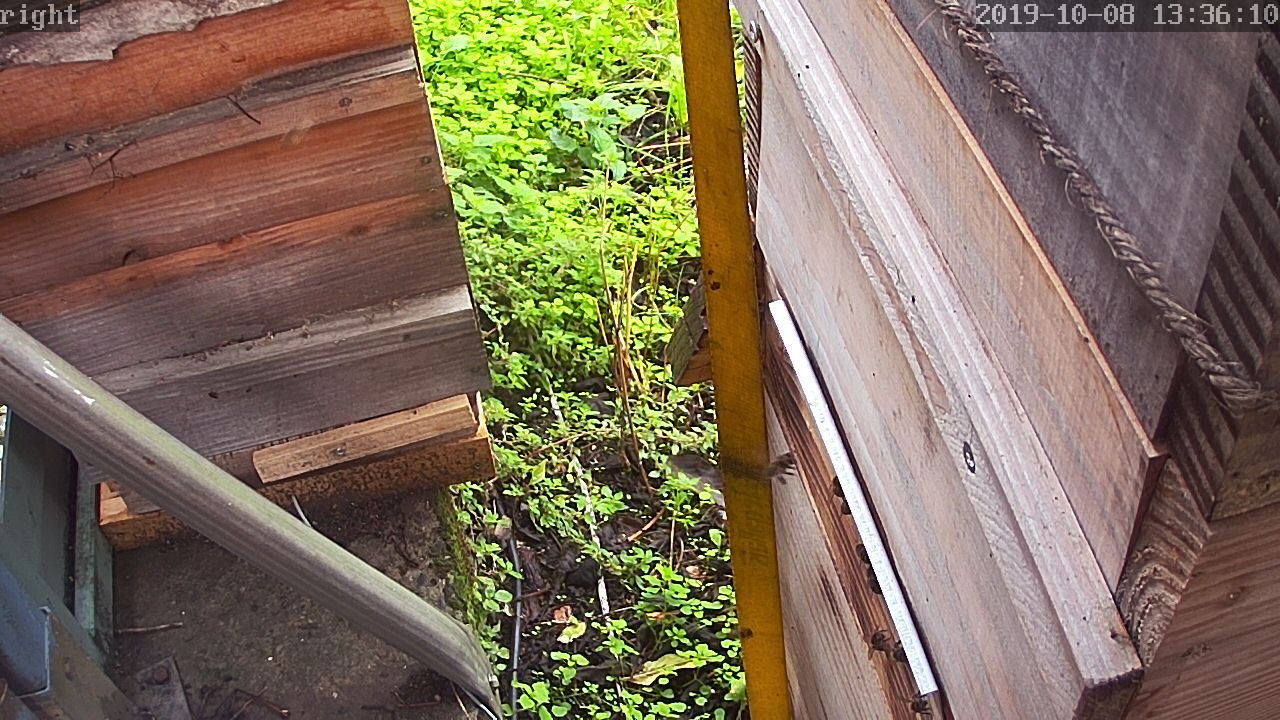bee: (844, 534, 888, 596), (859, 626, 919, 666), (767, 446, 807, 487), (825, 472, 853, 519), (894, 684, 929, 716)
